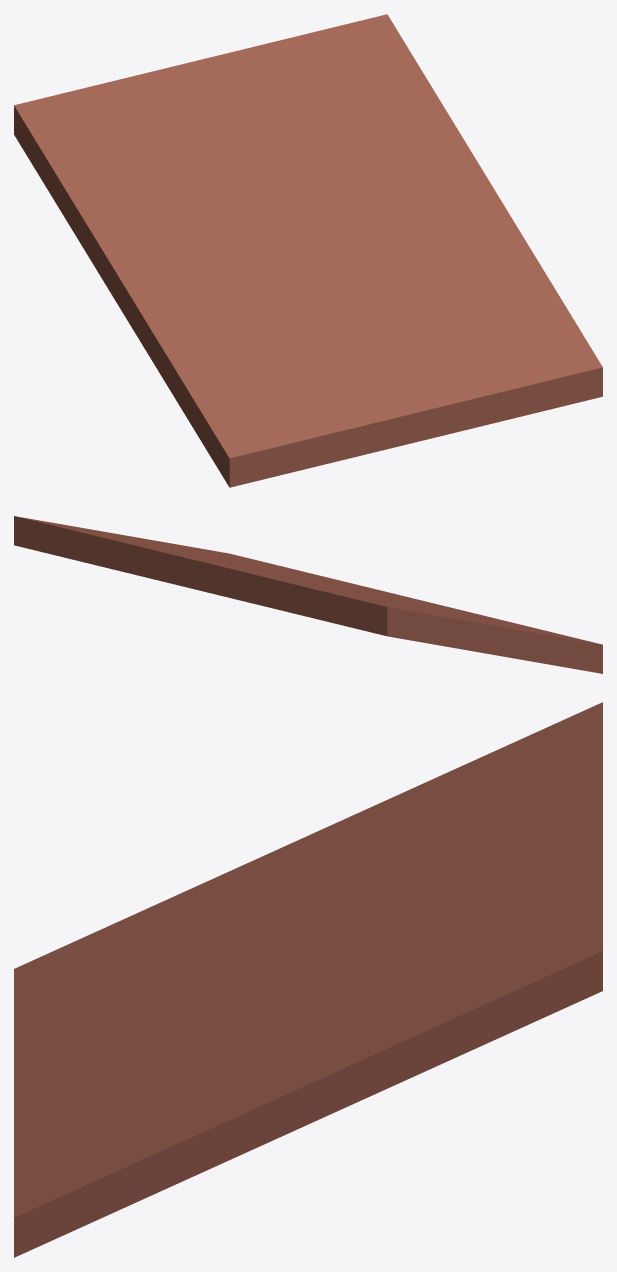
The model's file is roof_slope.glb.
The picture shows the model from 3 angles, top to bottom: view 1: azimuth 30°, elevation 25°; view 2: azimuth 150°, elevation 25°; view 3: azimuth 270°, elevation 25°; orthographic projection. The views are drawn at different scales.
Visible parts, largest first — view 1: Roof_Slope; view 2: Roof_Slope; view 3: Roof_Slope.
Boxes of the visible parts, x1=… form: Roof_Slope: x1=14, y1=14, x2=602, y2=487; Roof_Slope: x1=14, y1=516, x2=602, y2=673; Roof_Slope: x1=14, y1=702, x2=602, y2=1257.
Size of what is drawn, in the model's own units: 2 by 1.15 by 2.
Materials: 1 (1 with a texture image).
